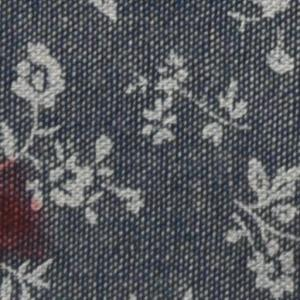Stain: (1, 153, 56, 272)
